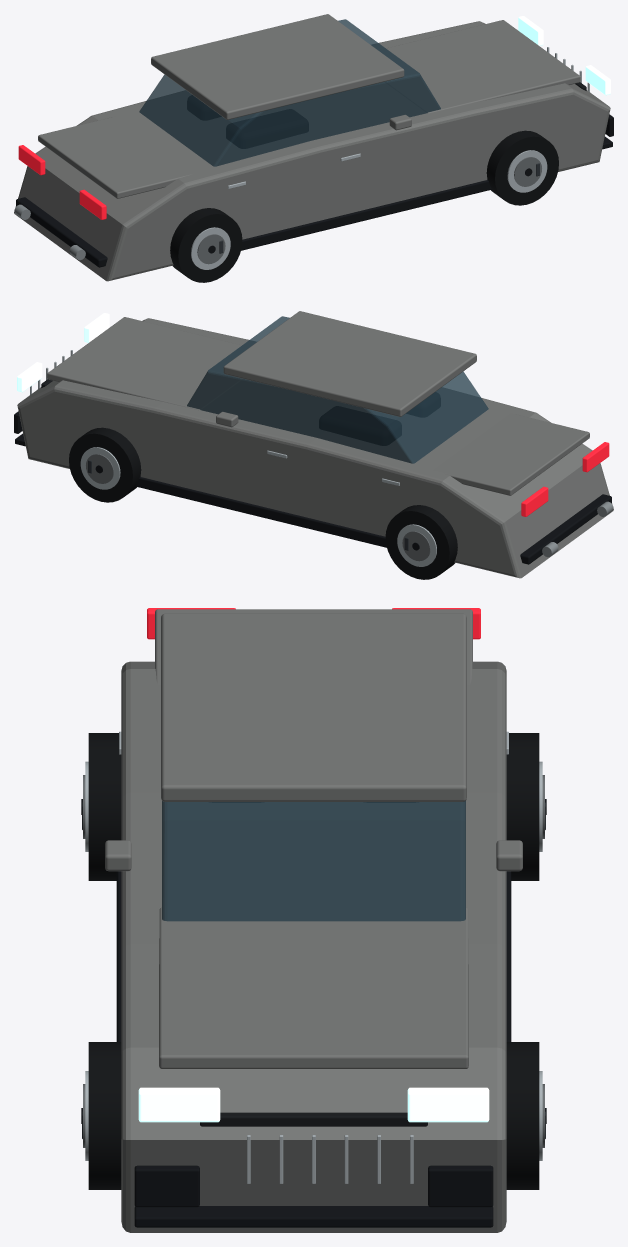
Rendered from rr_ghost_ii.glb.
The picture shows the model from 3 angles, top to bottom: view 1: azimuth 30°, elevation 25°; view 2: azimuth 150°, elevation 25°; view 3: azimuth 270°, elevation 25°; orthographic projection. The views are drawn at different scales.
Visible parts, largest first — view 1: sculpted_body, roof, glasshouse, hood_center, rear_deck, rear_right_wheel_tire, front_right_wheel_tire, side_skirt_1, seat_1, rear_diffuser, front_right_wheel_rim, rear_right_wheel_rim (+7 smaller); view 2: sculpted_body, roof, glasshouse, hood_center, rear_deck, rear_left_wheel_tire, front_left_wheel_tire, side_skirt_-1, seat_-1, rear_diffuser, front_left_wheel_rim, rear_left_wheel_rim (+7 smaller); view 3: sculpted_body, roof, hood_center, glasshouse, front_splitter, front_left_wheel_tire, front_right_wheel_tire, rear_left_wheel_tire, rear_right_wheel_tire, front_grille, headlight_left, headlight_right (+7 smaller).
Part boxes in pixels (bbox=[...]): sculpted_body: bbox=[14, 21, 610, 281]; roof: bbox=[151, 14, 404, 119]; glasshouse: bbox=[139, 19, 440, 166]; hood_center: bbox=[379, 20, 580, 113]; rear_deck: bbox=[38, 116, 194, 198]; rear_right_wheel_tire: bbox=[170, 208, 242, 282]; front_right_wheel_tire: bbox=[486, 130, 558, 205]; side_skirt_1: bbox=[241, 180, 491, 250]; seat_1: bbox=[226, 109, 308, 148]; rear_diffuser: bbox=[16, 197, 107, 267]; front_right_wheel_rim: bbox=[507, 150, 547, 192]; rear_right_wheel_rim: bbox=[191, 227, 230, 269]; sculpted_body: bbox=[17, 318, 613, 578]; roof: bbox=[223, 311, 476, 416]; glasshouse: bbox=[187, 316, 488, 463]; hood_center: bbox=[47, 317, 248, 410]; rear_deck: bbox=[433, 413, 589, 495]; rear_left_wheel_tire: bbox=[385, 505, 457, 579]; front_left_wheel_tire: bbox=[69, 427, 141, 502]; side_skirt_-1: bbox=[136, 477, 386, 547]; seat_-1: bbox=[319, 406, 401, 445]; rear_diffuser: bbox=[520, 494, 611, 564]; front_left_wheel_rim: bbox=[80, 447, 120, 489]; rear_left_wheel_rim: bbox=[397, 524, 436, 566]; sculpted_body: bbox=[121, 661, 506, 1232]; roof: bbox=[161, 613, 466, 801]; hood_center: bbox=[159, 907, 468, 1068]; glasshouse: bbox=[162, 801, 465, 921]; front_splitter: bbox=[134, 1206, 493, 1227]; front_left_wheel_tire: bbox=[506, 1042, 539, 1189]; front_right_wheel_tire: bbox=[88, 1042, 121, 1189]; rear_left_wheel_tire: bbox=[506, 733, 539, 880]; rear_right_wheel_tire: bbox=[88, 733, 121, 880]; front_grille: bbox=[200, 1112, 427, 1126]; headlight_left: bbox=[407, 1087, 489, 1122]; headlight_right: bbox=[138, 1087, 220, 1122].
Bounding box in the file's own units: 5.92 × 1.58 × 2.26.
